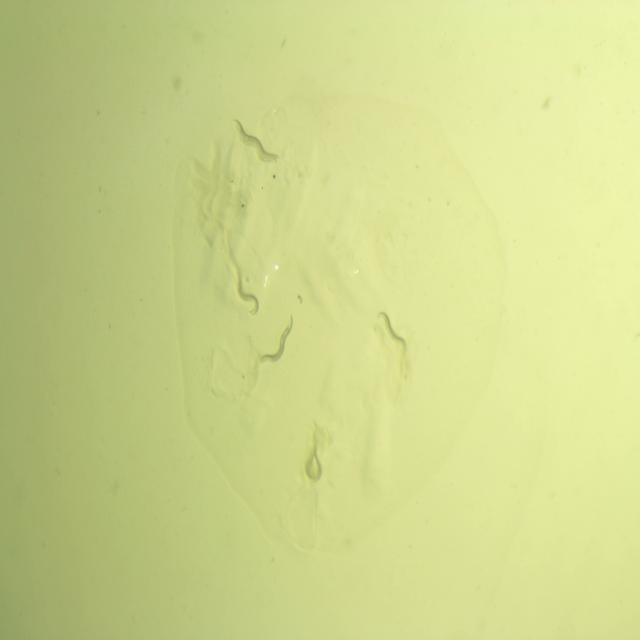worm: (257, 311, 296, 371), (233, 116, 282, 161), (374, 304, 412, 362), (234, 123, 278, 168), (233, 268, 263, 319), (299, 431, 323, 491)
